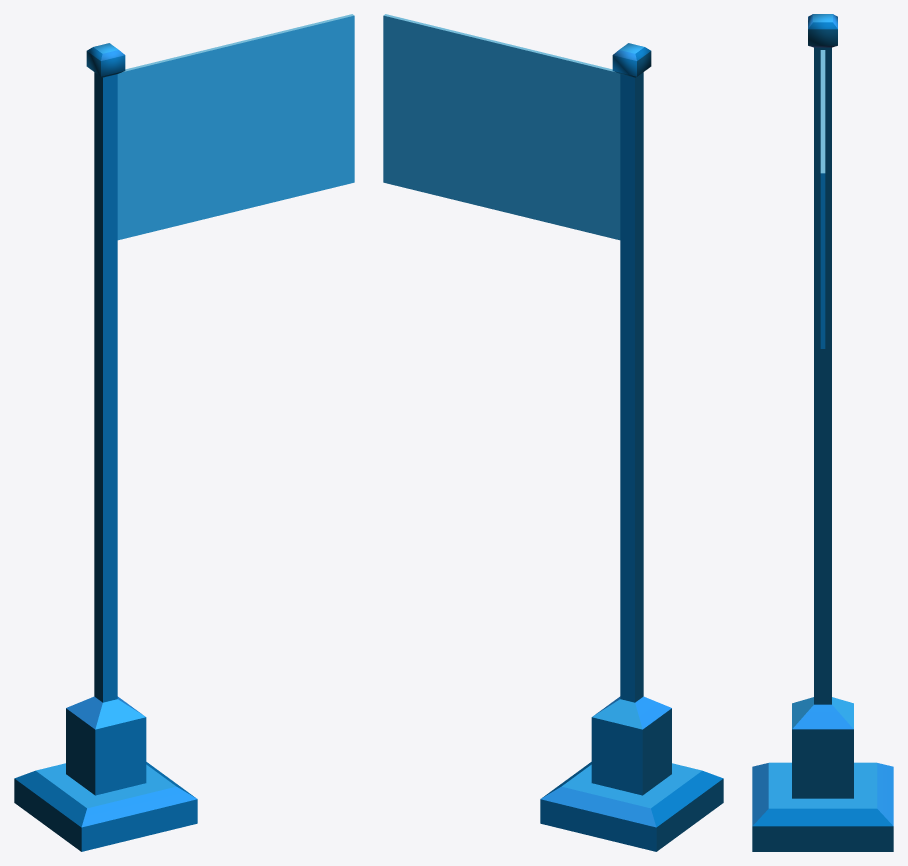
The model's file is blue_flag.fbx.
The picture shows the model from 3 angles, left to right: view 1: azimuth 30°, elevation 25°; view 2: azimuth 150°, elevation 25°; view 3: azimuth 270°, elevation 25°; orthographic projection. The views are drawn at different scales.
Visible parts, largest first — view 1: blue_flag, blue_pole; view 2: blue_flag, blue_pole; view 3: blue_pole, blue_flag.
Boxes of the visible parts, x1,y1,x2,y2 form: blue_flag: (117, 14, 354, 240); blue_pole: (14, 43, 197, 851); blue_flag: (383, 14, 620, 240); blue_pole: (540, 43, 723, 851); blue_pole: (752, 14, 893, 851); blue_flag: (820, 50, 825, 348).
Size of the model in its own units: 342 by 817 by 130.
